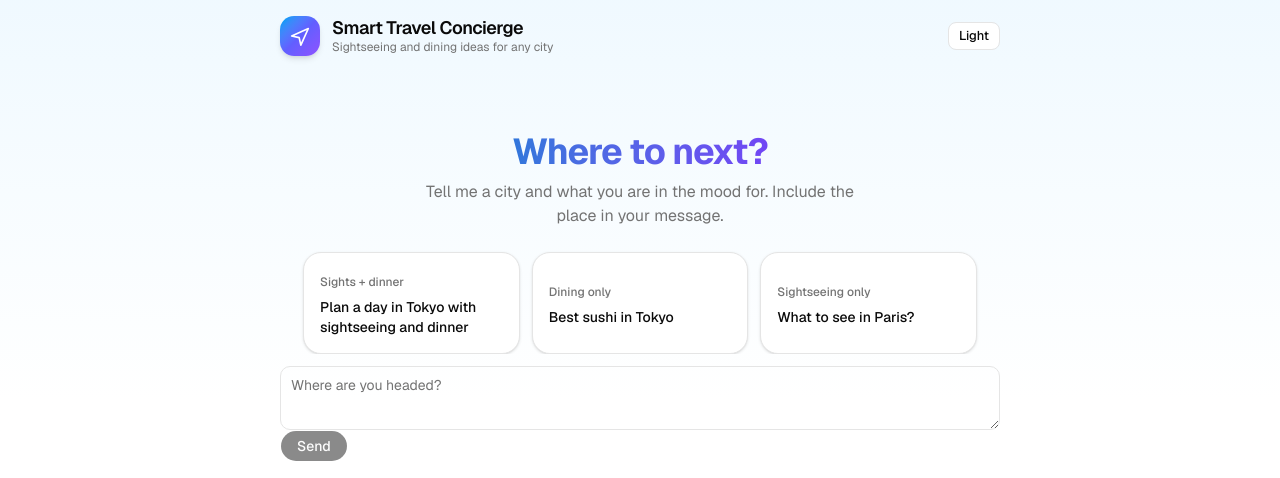
Scenario: Chat › shows a friendly error when the server route reports one
Click the button "Dining only Best sushi in Tokyo" at (640, 303), box [532,252,748,354]
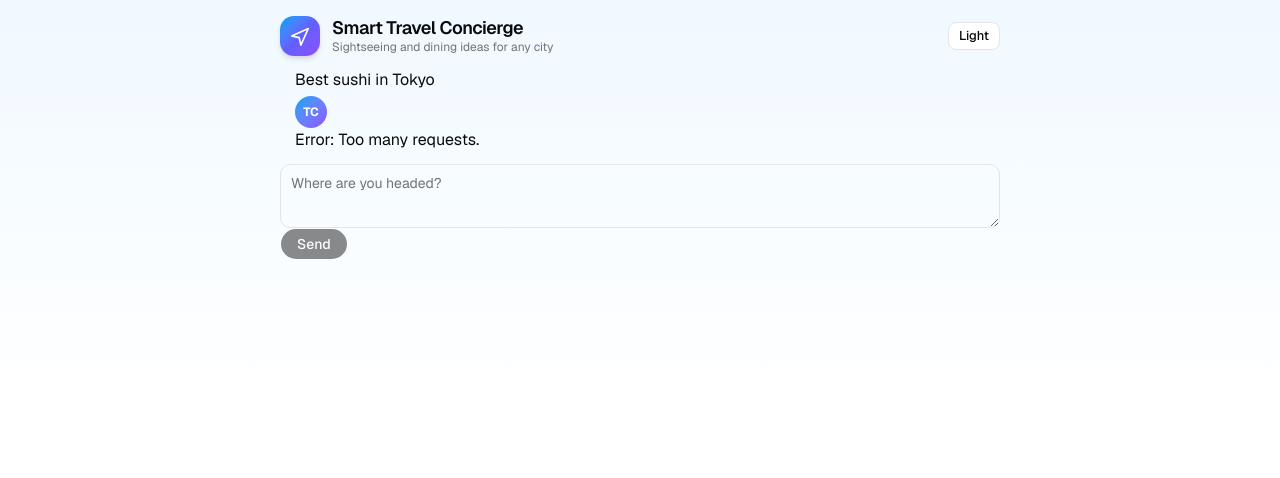
Check: the message shows "Too many requests.", box [295,129,479,150]
